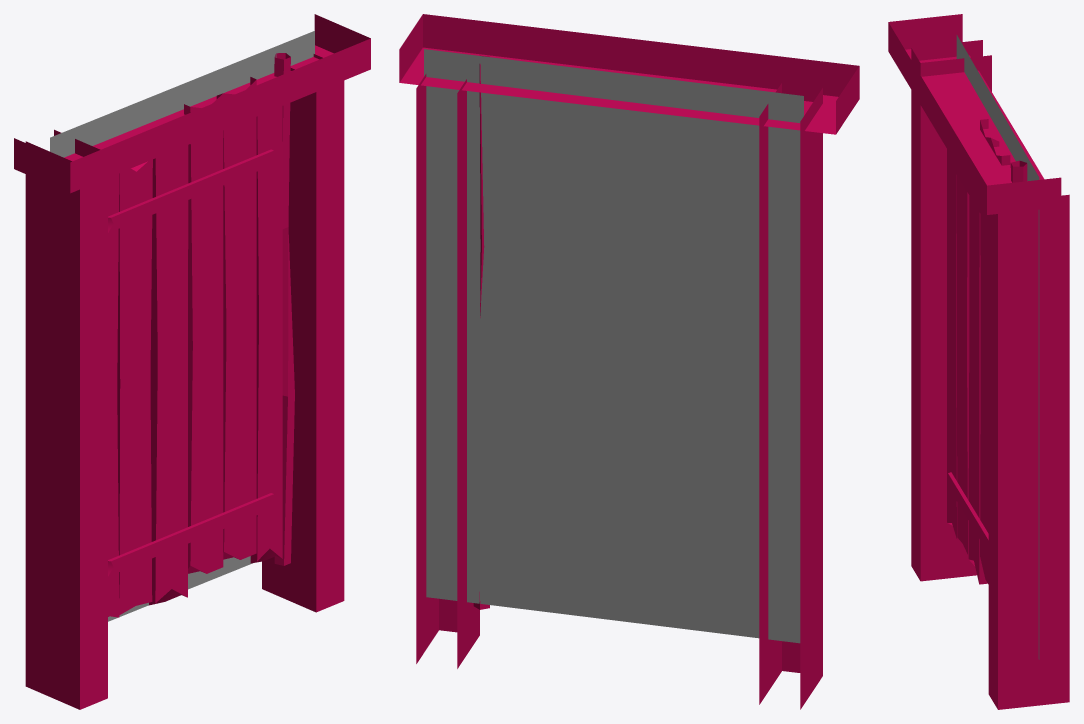
File: SM_BurcKapi.fbx
3 views of the same model, side by side, from view 1: azimuth 30°, elevation 25°; view 2: azimuth 150°, elevation 25°; view 3: azimuth 270°, elevation 25° (orthographic). The views are drawn at different scales.
Parts seen in each view (by area): view 1: Kapilar_Orta_Tabak3; view 2: Kapilar_Orta_Tabak3; view 3: Kapilar_Orta_Tabak3.
Boxes of the visible parts, left/top/right/bottom form: Kapilar_Orta_Tabak3: left=14, top=14, right=370, bottom=709; Kapilar_Orta_Tabak3: left=399, top=14, right=859, bottom=709; Kapilar_Orta_Tabak3: left=888, top=14, right=1069, bottom=709.
Bounding box in the file's own units: 135 × 60.35 × 196.
